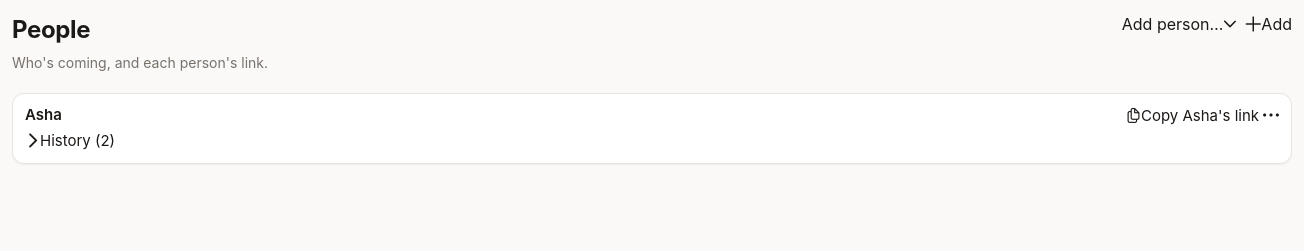
Test: TripPeopleView › reveals the link history rows when the History toggle is clicked
What coordinates should you click on to do the following:
click the button "History (2)"
I would click on:
 (70, 140)
Its box is [25,130,115,150].
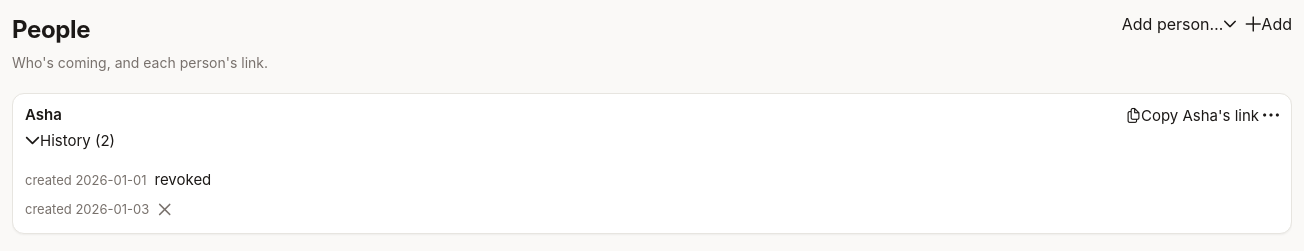
Result: the list with class "links-list" is shown at [25,170,211,219]
Result: the list with class "links-list" shows "created 2026-01-01" at [25,172,146,188]
Result: the list with class "links-list" shows "revoked" at [154,170,211,189]
